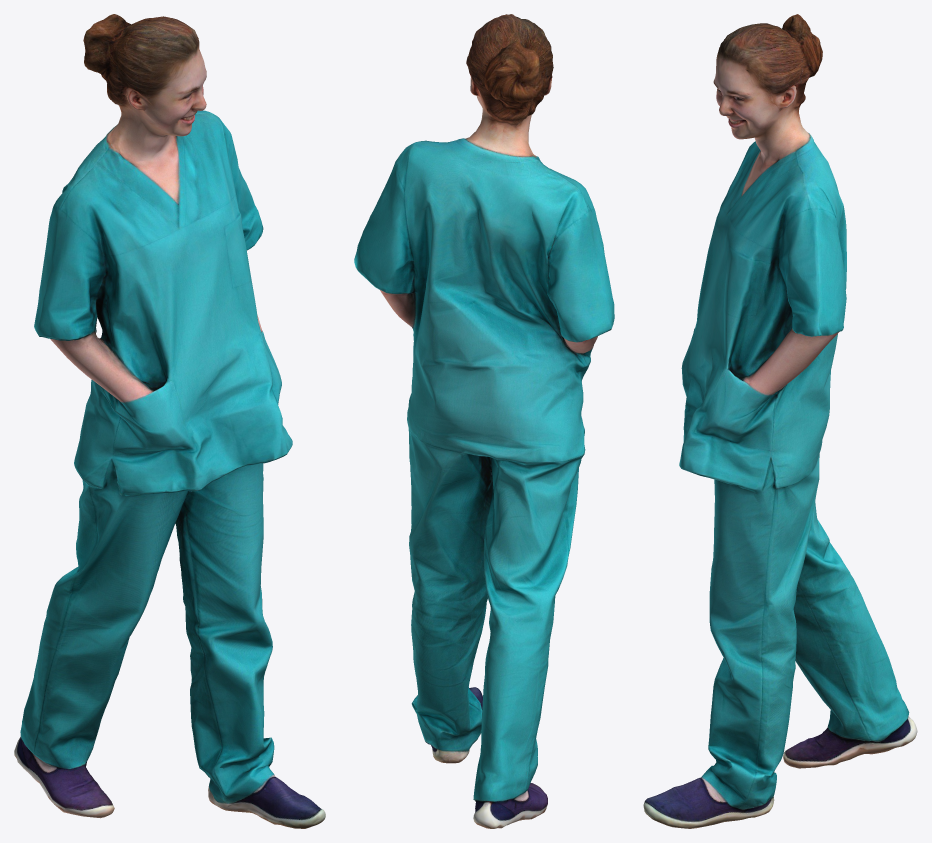
File: woman-doctor.glb
3 views of the same model, side by side, from view 1: azimuth 30°, elevation 25°; view 2: azimuth 150°, elevation 25°; view 3: azimuth 270°, elevation 25° (orthographic). The views are drawn at different scales.
Visible parts, largest first — view 1: Mesh1_medical_Material__85_0; view 2: Mesh1_medical_Material__85_0; view 3: Mesh1_medical_Material__85_0.
Part boxes in pixels (x1,y1,x2,y2): Mesh1_medical_Material__85_0: (14,14,325,828); Mesh1_medical_Material__85_0: (354,14,614,828); Mesh1_medical_Material__85_0: (643,14,917,828).
Size of the model in its own units: 0.5906 by 1.82 by 0.599.
Materials: 1 (1 with a texture image).
